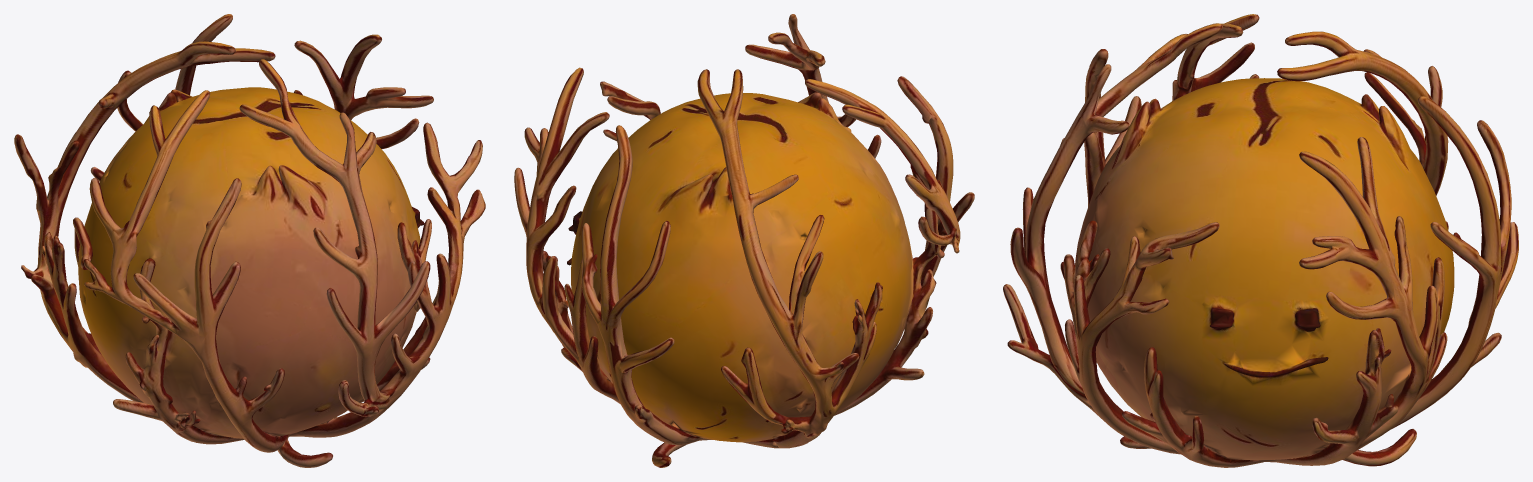
Rendered from TumbleWeedFace.glb.
3 renders of one model, left to right at view 1: azimuth 30°, elevation 25°; view 2: azimuth 150°, elevation 25°; view 3: azimuth 270°, elevation 25°, orthographic. The views are drawn at different scales.
Visible parts, largest first — view 1: tripo_node_b1be6558-5392-48a1-982a-734ada718cb9; view 2: tripo_node_b1be6558-5392-48a1-982a-734ada718cb9; view 3: tripo_node_b1be6558-5392-48a1-982a-734ada718cb9.
Boxes of the visible parts, x1,y1,x2,y2 form: tripo_node_b1be6558-5392-48a1-982a-734ada718cb9: (14, 14, 485, 467); tripo_node_b1be6558-5392-48a1-982a-734ada718cb9: (514, 14, 974, 467); tripo_node_b1be6558-5392-48a1-982a-734ada718cb9: (1003, 14, 1518, 467).
Size of the model in its own units: 0.9575 by 0.9025 by 0.9995.
Materials: 1 (1 with a texture image).
